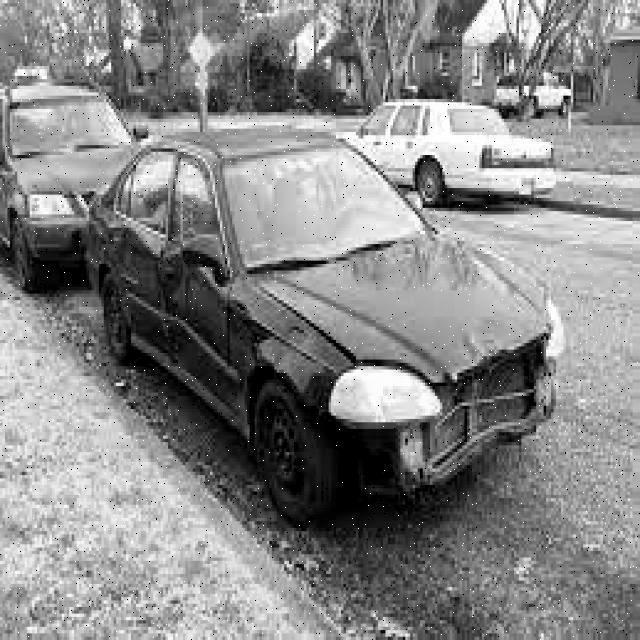doorouter-dent: (106, 215, 168, 350), (168, 254, 232, 382)
front-bumper-dent: (357, 370, 596, 485)
